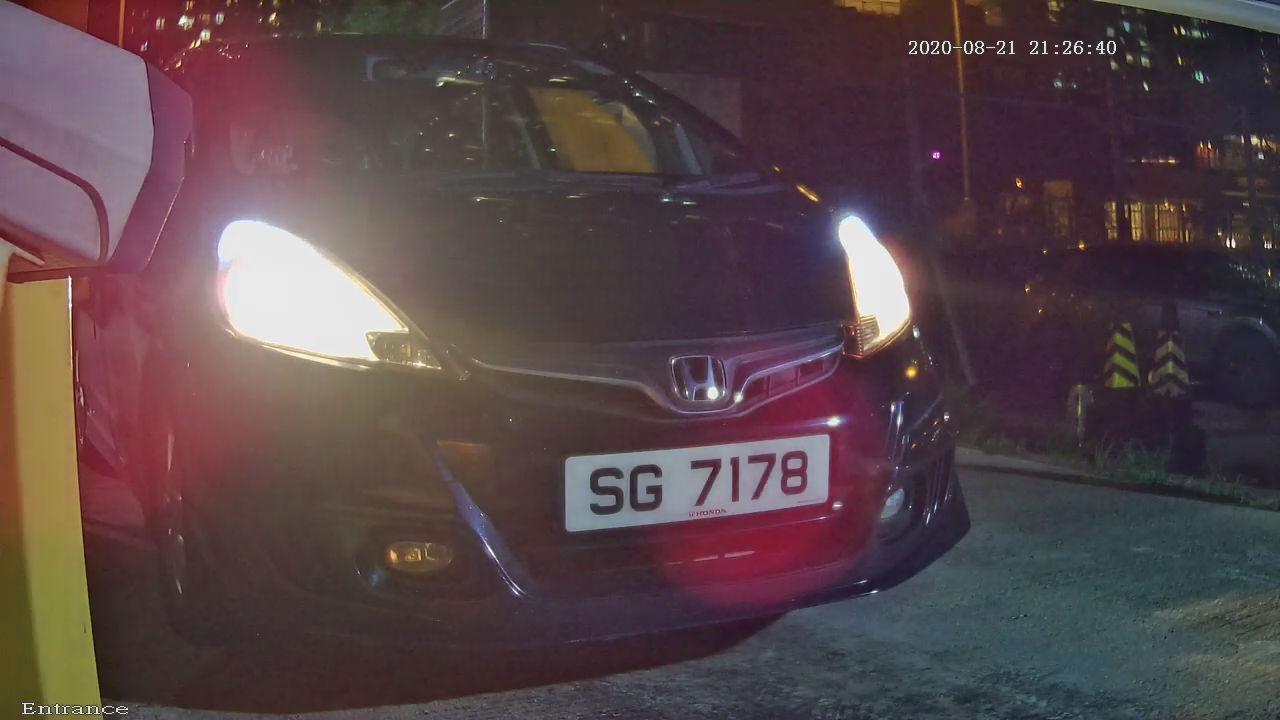Car: (63, 1, 1052, 714)
License Plate: (532, 431, 841, 534)
